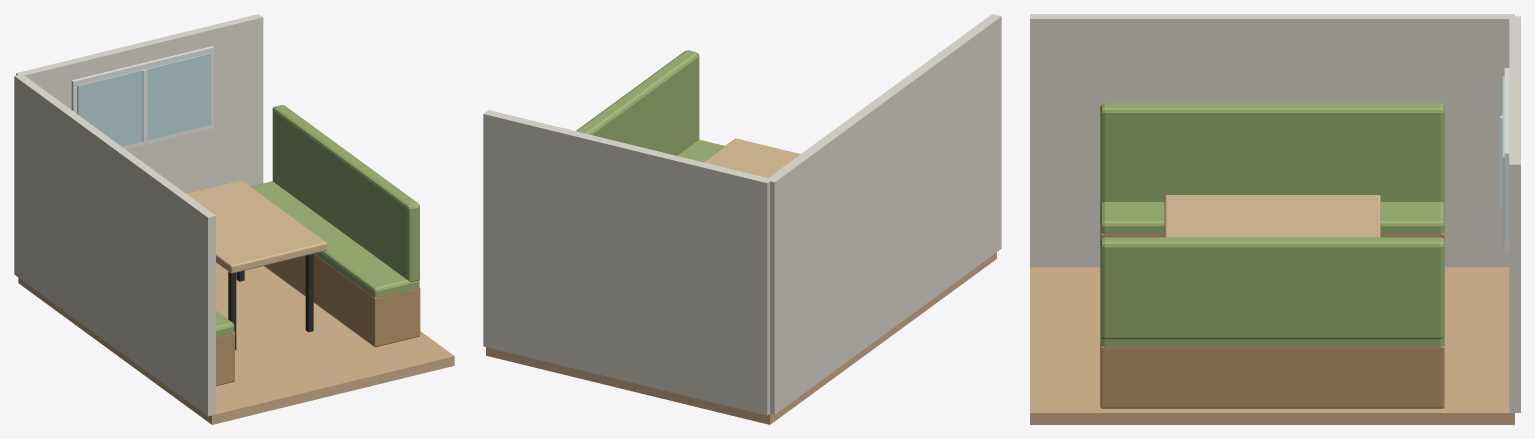
The model's file is room2.glb.
3 views of the same model, side by side, from view 1: azimuth 30°, elevation 25°; view 2: azimuth 150°, elevation 25°; view 3: azimuth 270°, elevation 25° (orthographic). The views are drawn at different scales.
Parts seen in each view (by area): view 1: Left wall, Floor, Back wall, Green backrest.001, Window glass, Oak table, Bench base.001, Green seat.001, Window surround, Bench base, Table leg.002, Table leg (+1 smaller); view 2: Back wall, Left wall, Green backrest.001, Floor, Oak table, Green seat.001; view 3: Left wall, Green backrest.001, Green backrest, Floor, Bench base.001, Oak table, Back wall, Green seat, Green seat.001, Window surround, Bench base, Window glass.
Part boxes in pixels (x1,y1,x2,y2): Left wall: (14,74,215,416); Floor: (18,263,454,424); Back wall: (16,14,263,193); Green backrest.001: (272,105,419,281); Window glass: (77,53,210,146); Oak table: (186,180,327,273); Bench base.001: (264,254,420,347); Green seat.001: (251,181,419,297); Window surround: (71,46,213,149); Bench base: (216,332,234,386); Table leg.002: (305,254,313,332); Table leg: (228,272,236,350); Back wall: (483,110,771,415); Left wall: (766,14,1001,414); Green backrest.001: (576,50,699,155); Floor: (486,252,996,424); Oak table: (703,138,800,177); Green seat.001: (677,139,724,161); Left wall: (1030,14,1514,267); Green backrest.001: (1100,237,1444,339); Green backrest: (1100,103,1444,202); Floor: (1030,267,1514,424); Bench base.001: (1100,345,1444,408); Oak table: (1164,195,1380,237); Back wall: (1509,16,1520,412); Green seat: (1100,202,1444,234); Green seat.001: (1100,336,1444,347); Window surround: (1504,68,1509,254); Bench base: (1100,232,1444,240); Window glass: (1502,76,1504,246).
Size of the model in its own units: 2.14 by 1.73 by 2.96.
